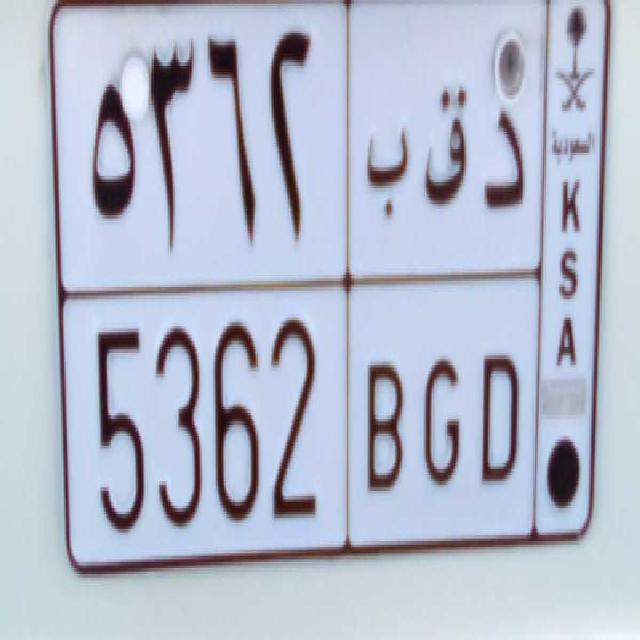license_plate: (70, 281, 532, 537)
